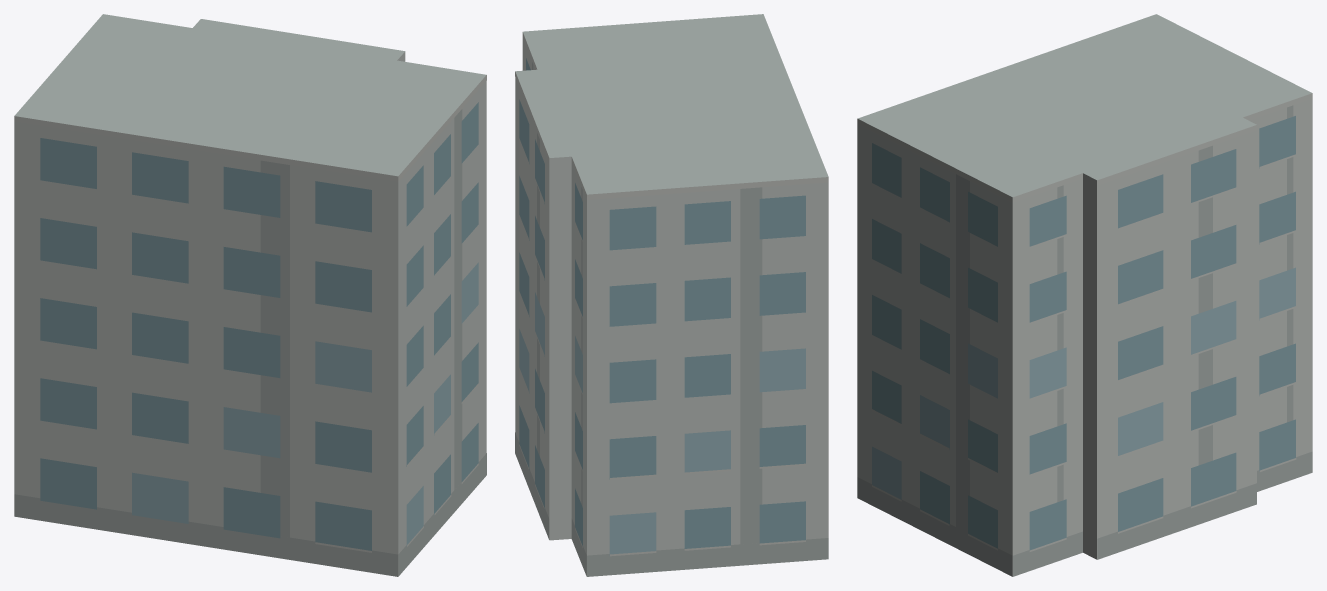
File: survey-upis-32907093.glb
The picture shows the model from 3 angles, left to right: view 1: azimuth 30°, elevation 25°; view 2: azimuth 150°, elevation 25°; view 3: azimuth 270°, elevation 25°; orthographic projection. The views are drawn at different scales.
Visible parts, largest first — view 1: survey-upis-32907093.tmp; view 2: survey-upis-32907093.tmp; view 3: survey-upis-32907093.tmp.
Boxes of the visible parts, x1,y1,x2,y2 form: survey-upis-32907093.tmp: (14, 14, 486, 576); survey-upis-32907093.tmp: (515, 14, 828, 576); survey-upis-32907093.tmp: (857, 14, 1312, 576).
Bounding box in the file's own units: 17.52 × 16.9 × 18.37.
